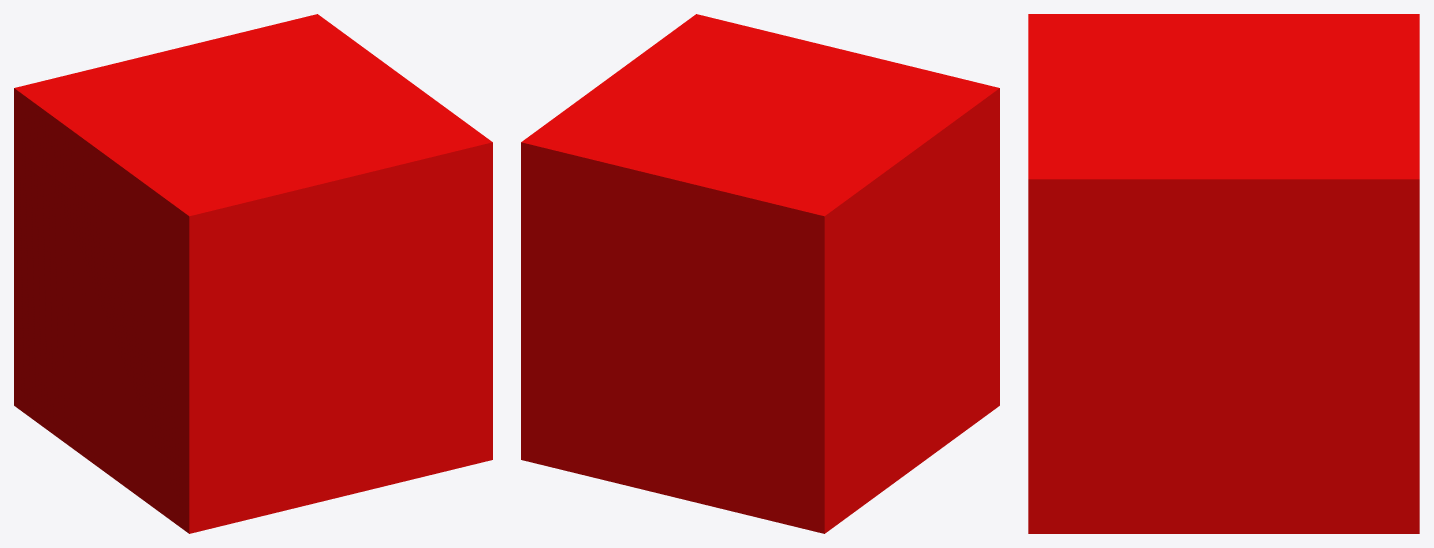
File: turret01.fbx
3 views of the same model, side by side, from view 1: azimuth 30°, elevation 25°; view 2: azimuth 150°, elevation 25°; view 3: azimuth 270°, elevation 25° (orthographic). The views are drawn at different scales.
Parts seen in each view (by area): view 1: turret; view 2: turret; view 3: turret.
Boxes of the visible parts, bbox=[...] form: turret: bbox=[14, 14, 492, 533]; turret: bbox=[521, 14, 999, 533]; turret: bbox=[1028, 14, 1419, 533].
Bounding box in the file's own units: 200 × 200 × 200.
2 materials, 1 textured.
